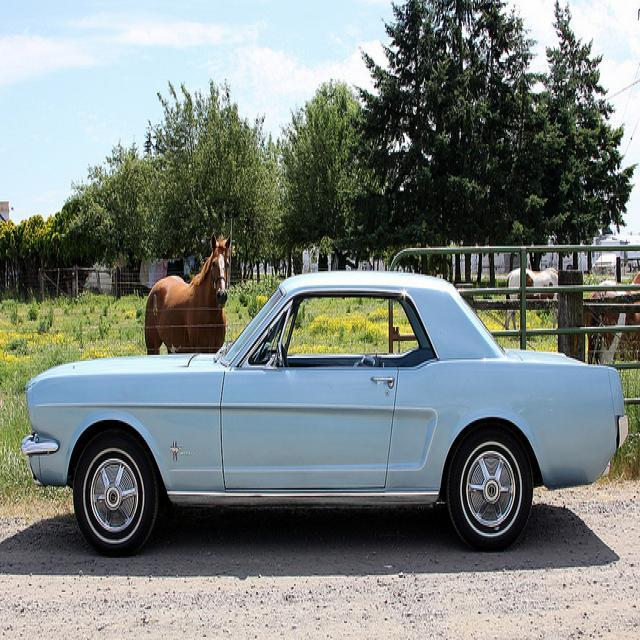cow: (584, 279, 639, 361)
